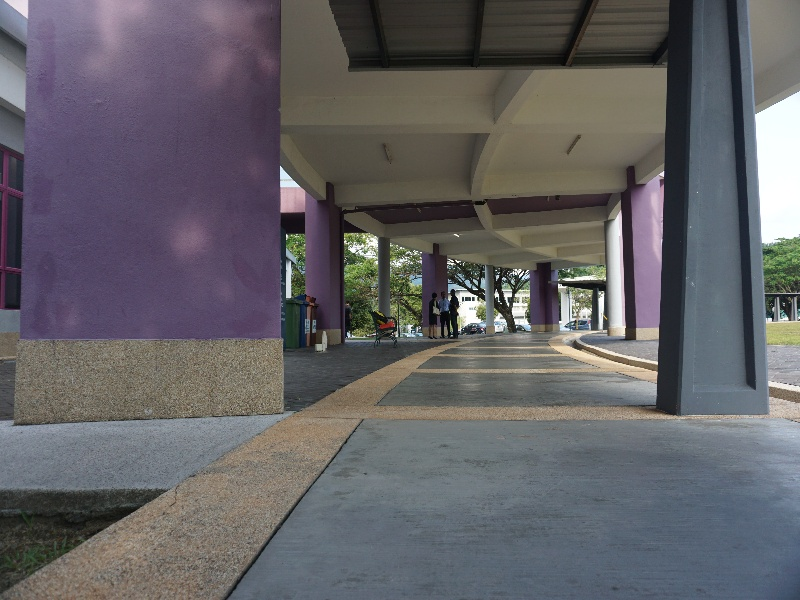Block D Pillar 1: (3, 4, 800, 494)
pillar: (13, 1, 312, 424), (654, 8, 776, 421)
